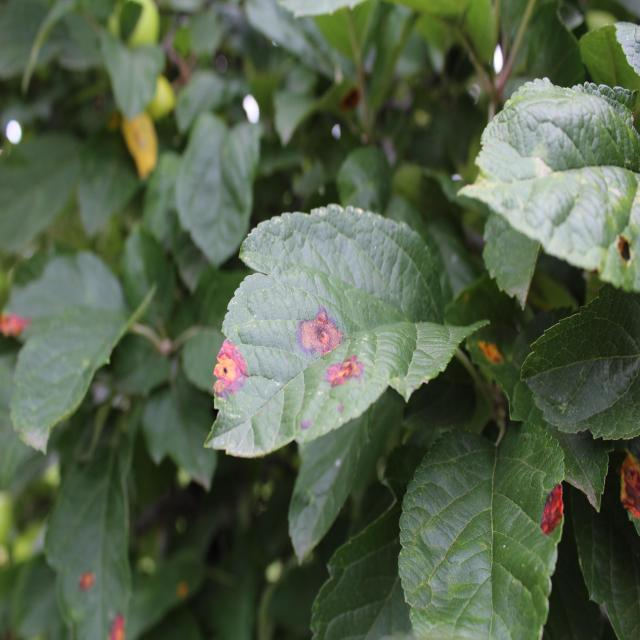rust: (204, 202, 492, 458), (396, 422, 567, 640), (43, 408, 134, 640)
